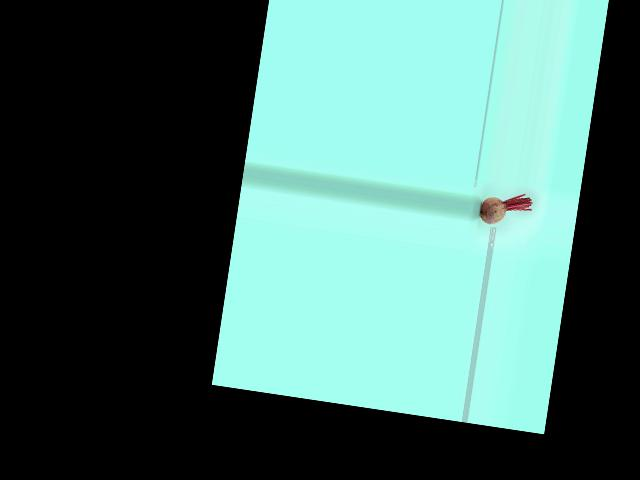beet: (478, 188, 533, 230)
